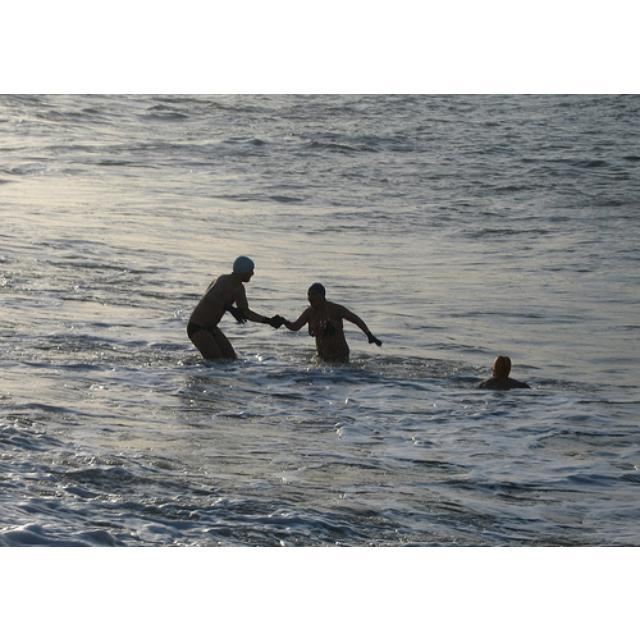human: (188, 255, 278, 370), (280, 282, 384, 370), (477, 353, 532, 393)
